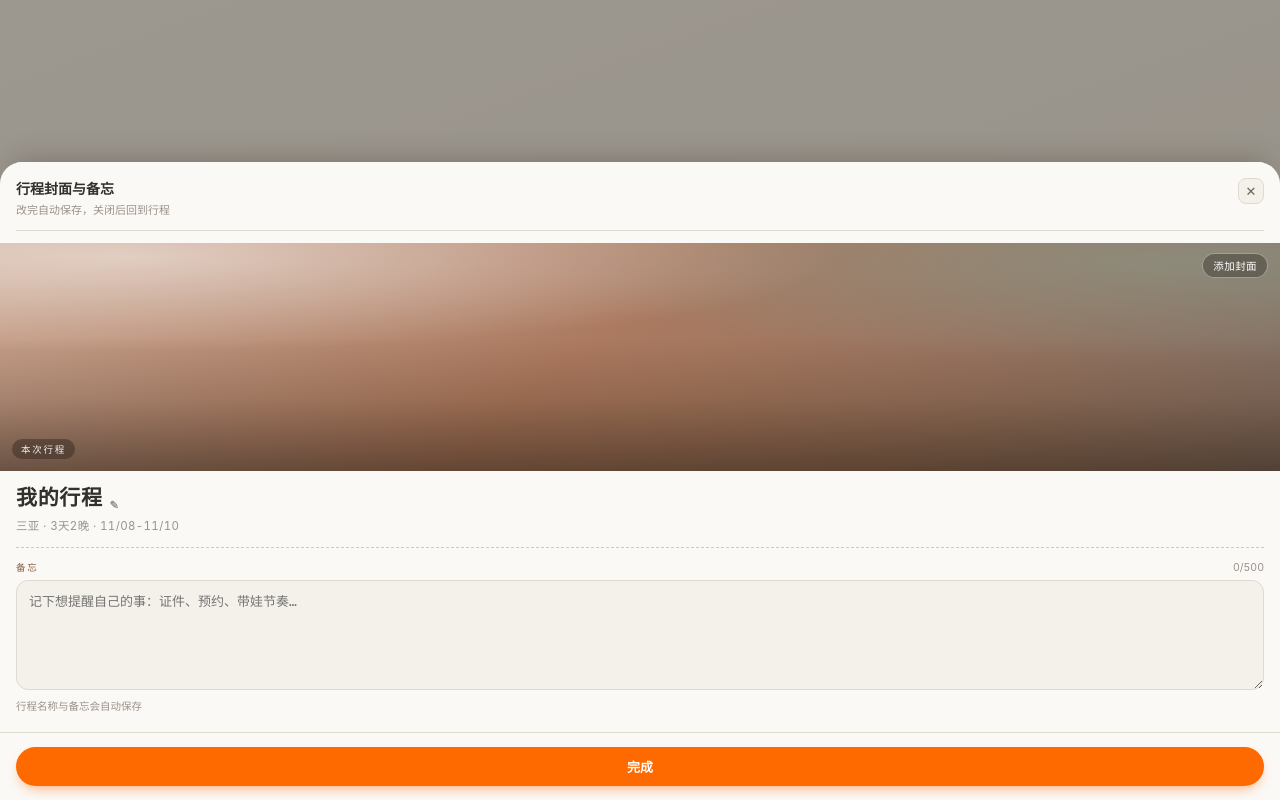
Test case: TripCoverSheet 浮层（编辑模式） › 点名称改名：失焦立即保存（上限 50 字）
This screenshot has width=1280, height=800.
Click the button with aria-label "行程名称：我的行程".
click(59, 498)  # box [16,485,1264,512]
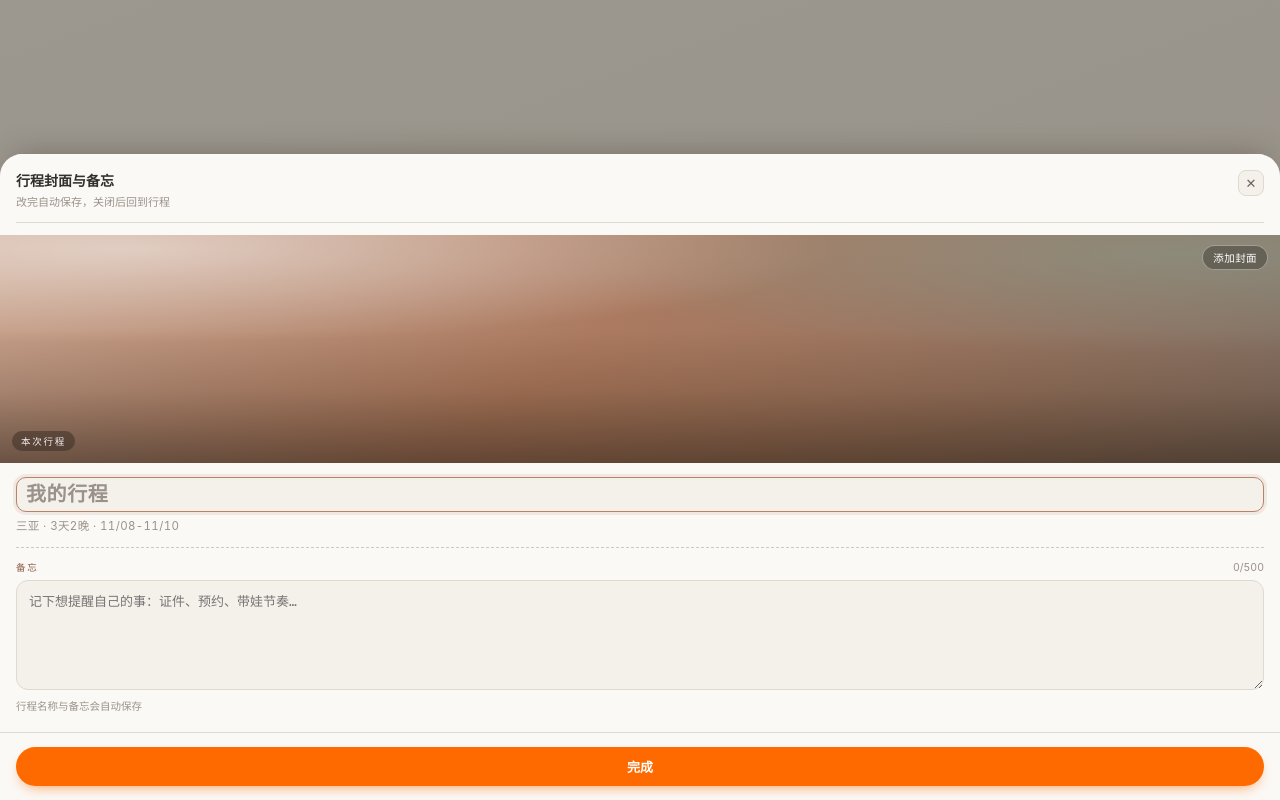
Result: the field named "行程名称" is empty
Type "  三亚亲子五日  " into the field named "行程名称".
click(640, 494); type("  三亚亲子五日  ")  # box [16,477,1264,512]
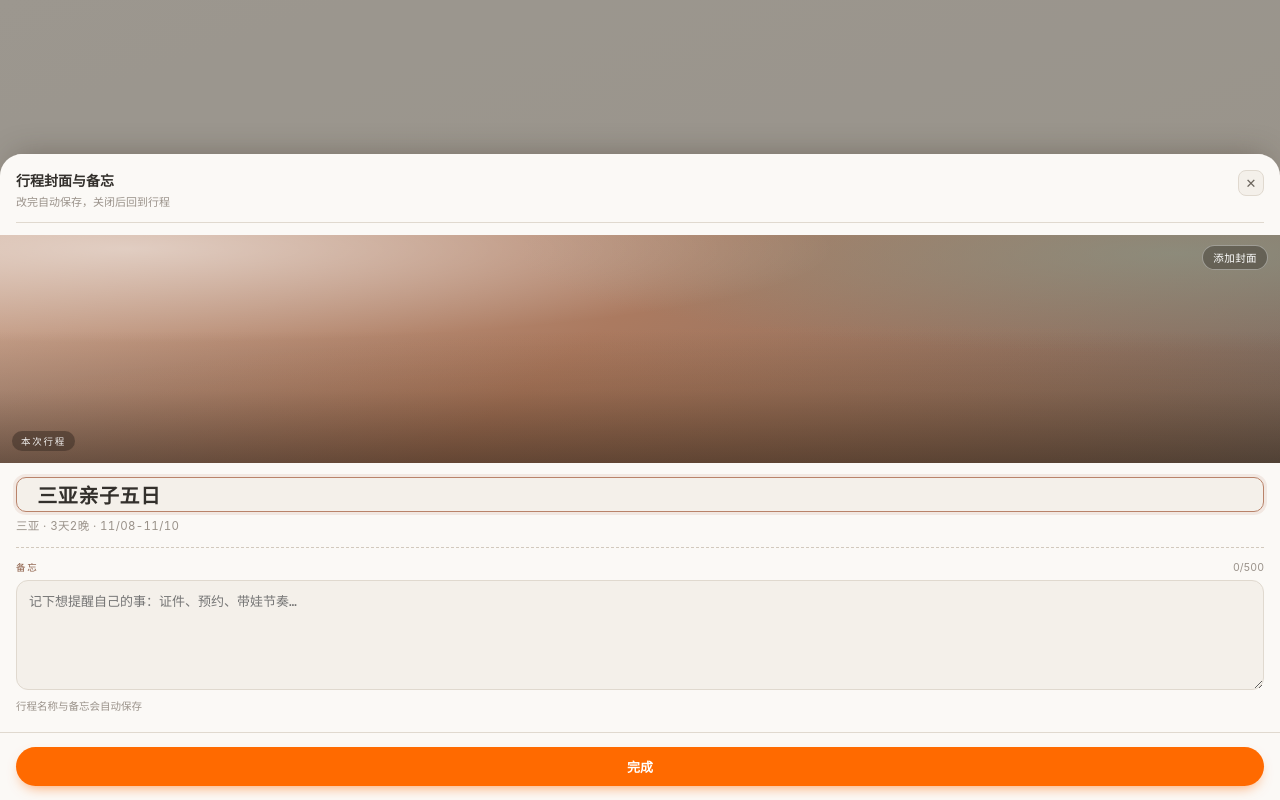
Leave the field named "行程名称", box [16,477,1264,512]
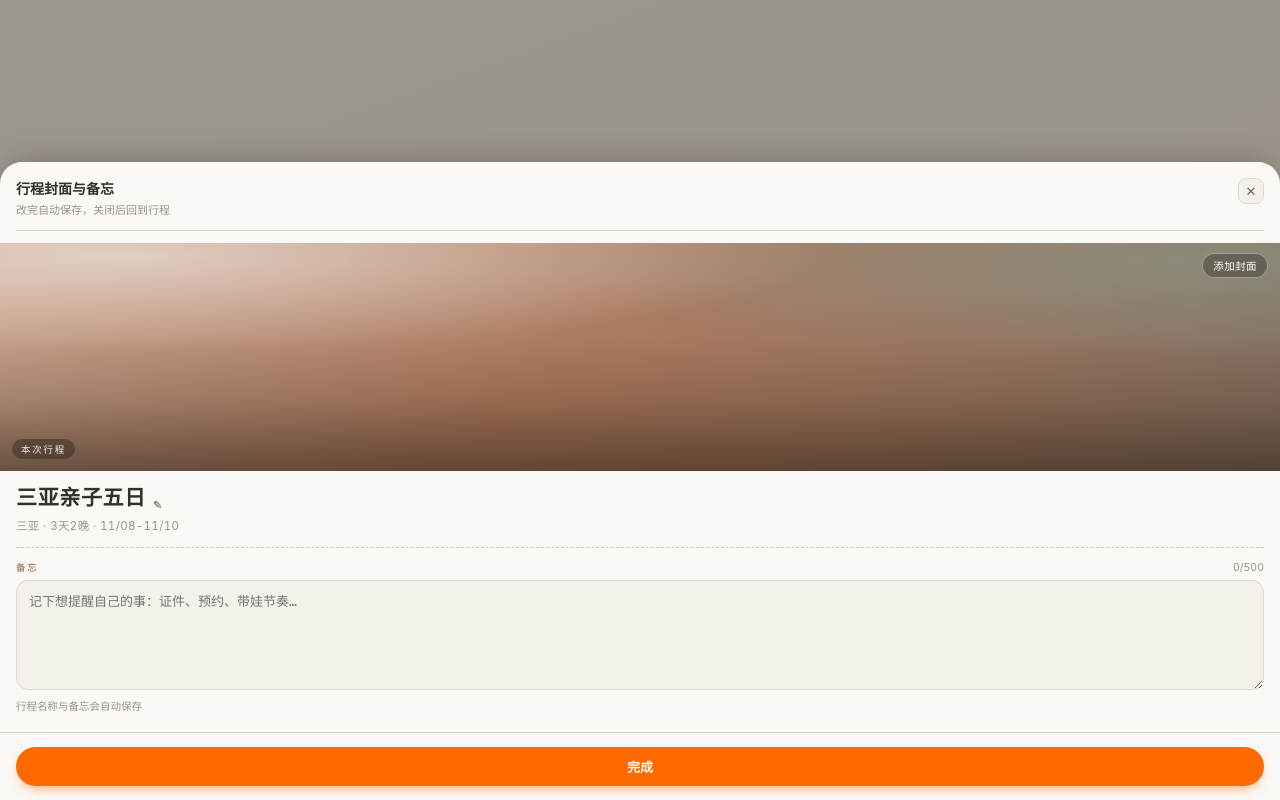
Result: the button with aria-label "行程名称：三亚亲子五日" is shown at [16,485,1264,512]
